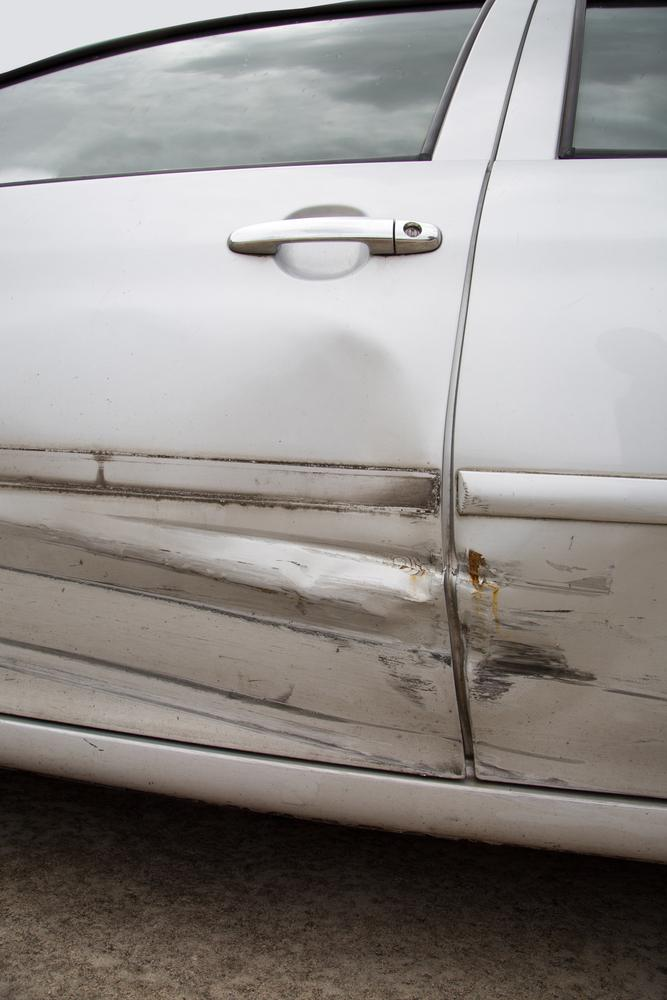dent: (184, 329, 449, 600)
scratch: (0, 509, 466, 779), (452, 539, 667, 790)
